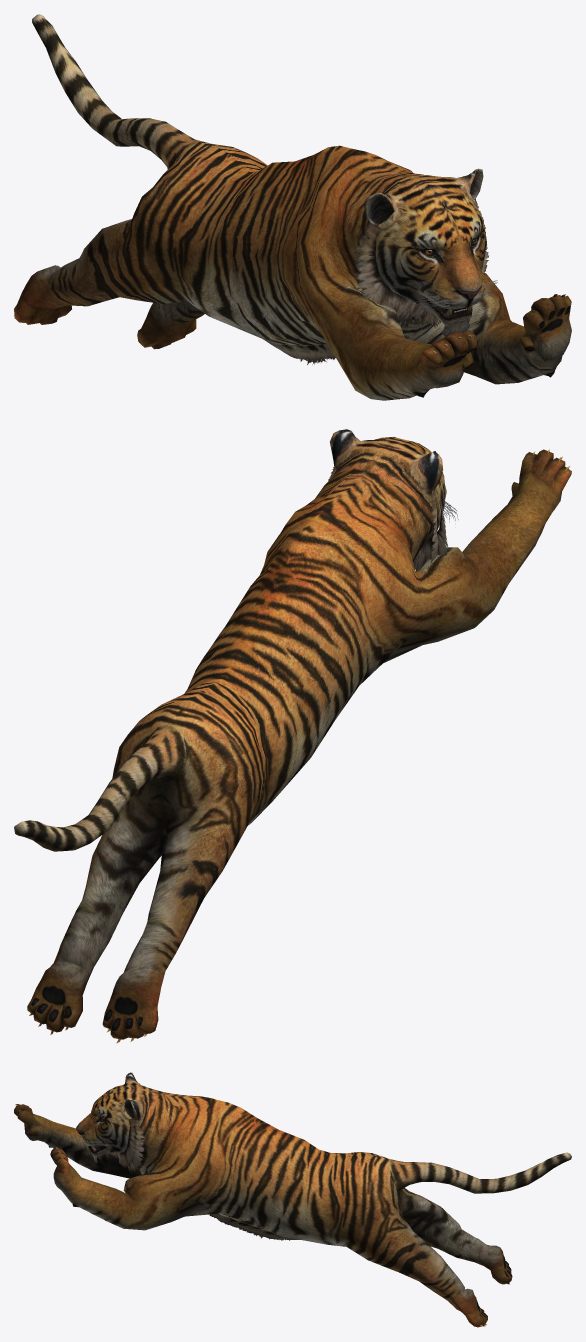
The model's file is Tiger222.fbx.
3 renders of one model, top to bottom at view 1: azimuth 30°, elevation 25°; view 2: azimuth 150°, elevation 25°; view 3: azimuth 270°, elevation 25°, orthographic. The views are drawn at different scales.
Parts seen in each view (by area): view 1: tiger; view 2: tiger; view 3: tiger.
Part boxes in pixels (bbox=[...]): tiger: bbox=[14, 14, 571, 400]; tiger: bbox=[14, 429, 571, 1043]; tiger: bbox=[14, 1072, 571, 1327].
Bounding box in the file's own units: 70.62 × 142 × 316.
1 material, 1 textured.
